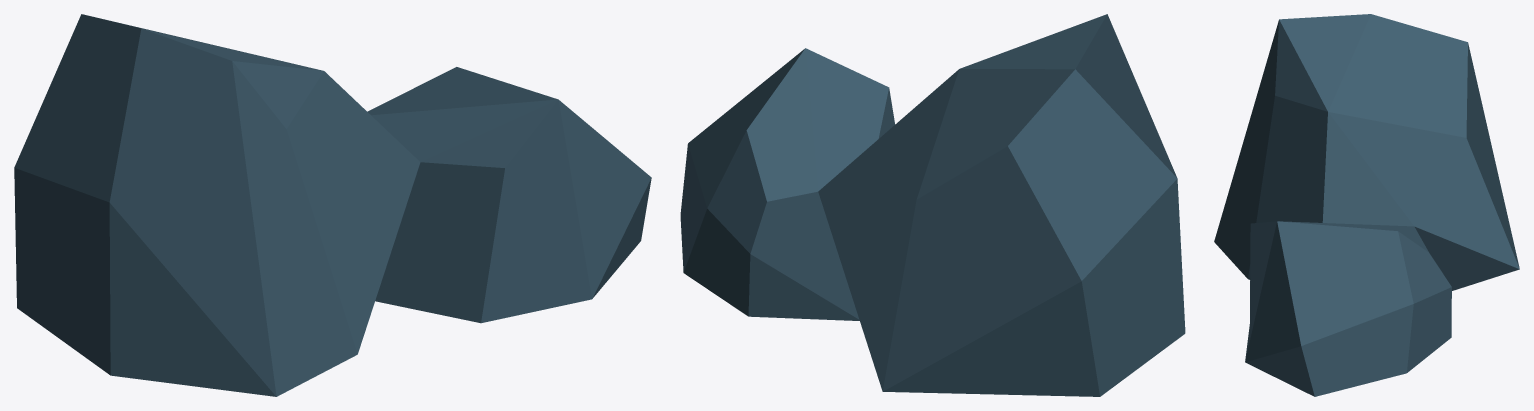
File: 2water_5.fbx
3 renders of one model, left to right at view 1: azimuth 30°, elevation 25°; view 2: azimuth 150°, elevation 25°; view 3: azimuth 270°, elevation 25°, orthographic. The views are drawn at different scales.
Visible parts, largest first — view 1: 5; view 2: 5; view 3: 5.
Boxes of the visible parts, x1,y1,x2,y2 form: 5: (14, 14, 651, 396); 5: (680, 14, 1185, 396); 5: (1214, 14, 1519, 396).
Size of the model in its own units: 29.53 by 19.82 by 15.91.
Materials: 1 (1 with a texture image).
